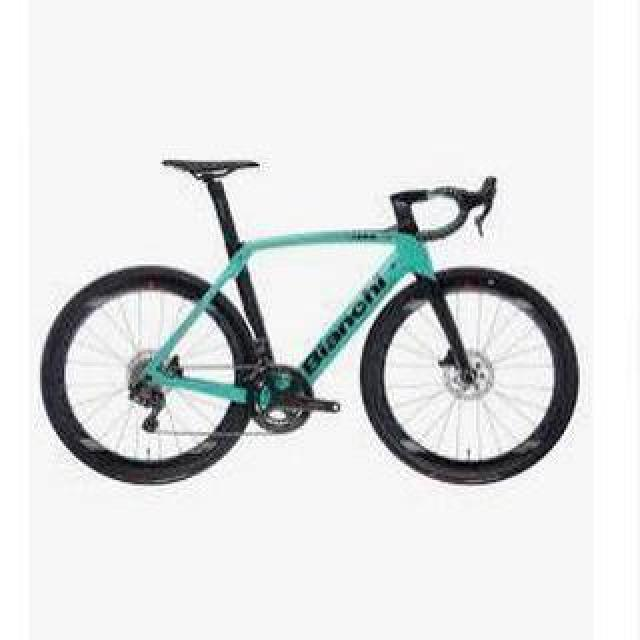Person: (29, 155, 591, 489)
